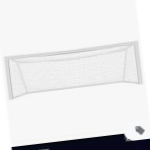goals: (4, 39, 146, 100)
